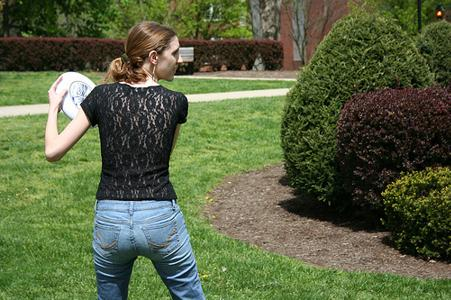person: (44, 22, 210, 300)
